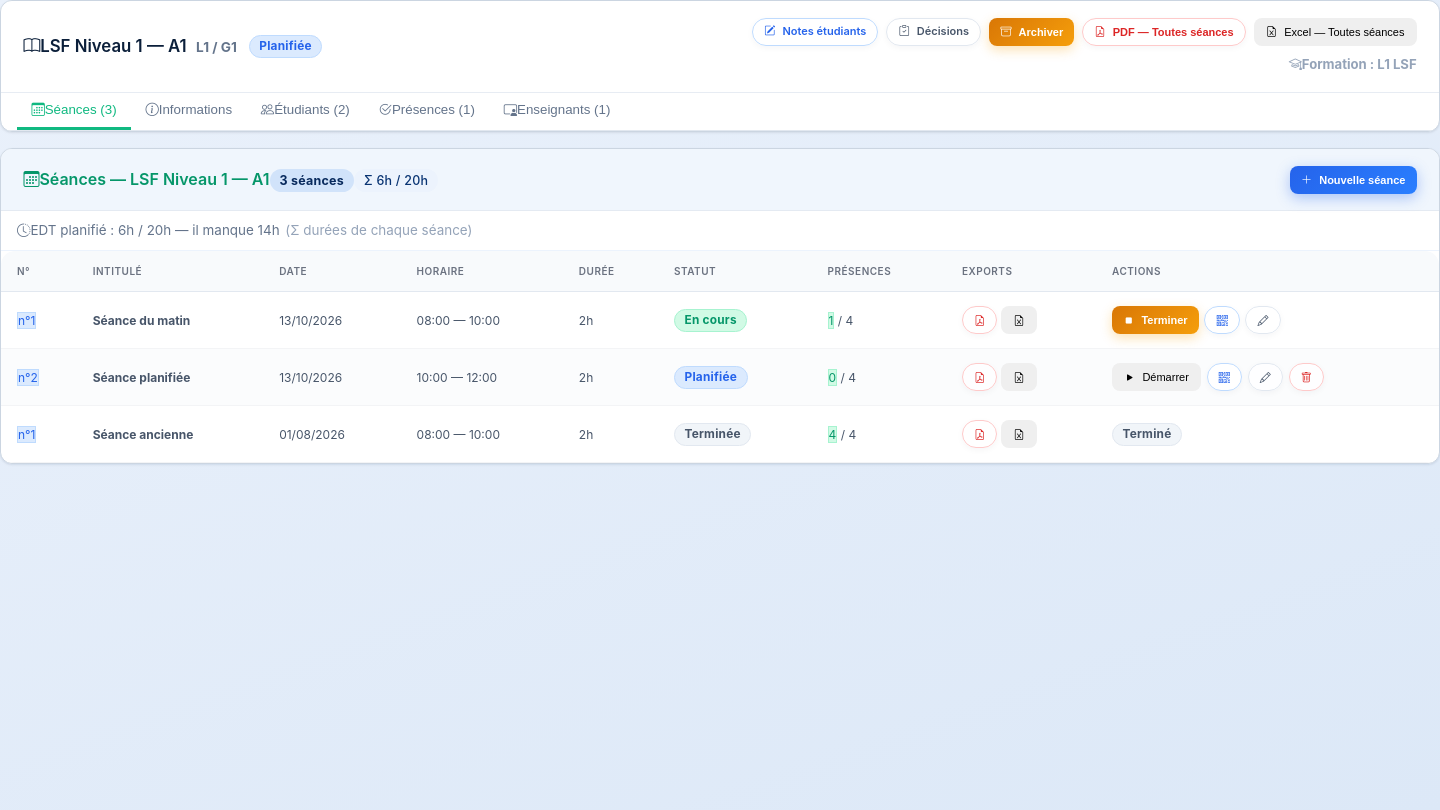
it: ModuleDetail — onglet Séances (démarrage/fin/suppression) › démarre une séance planifiée après confirmation (POST start), notifie et recharge
The width and height of the screenshot is (1440, 810).
Expected: the text "Séance planifiée" is shown, top-left (93, 370), bottom-right (190, 385)
Click the button "Démarrer": (1156, 378) top-left (1112, 364), bottom-right (1201, 392)
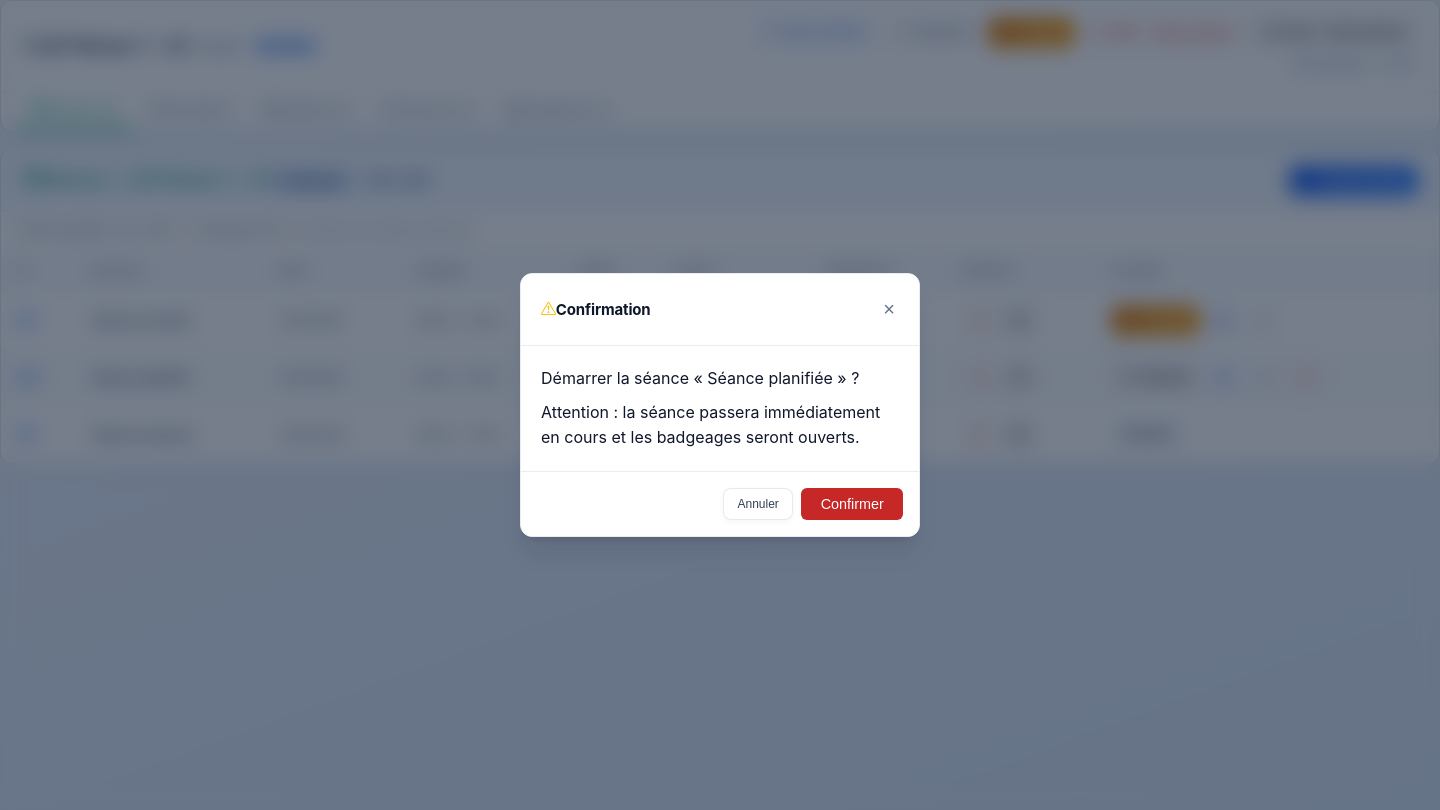
Expected: the text "Démarrer la séance « Séance planifiée » ?" is shown, top-left (541, 366), bottom-right (899, 392)
Click the button "Confirmer": (852, 504) top-left (802, 488), bottom-right (903, 520)
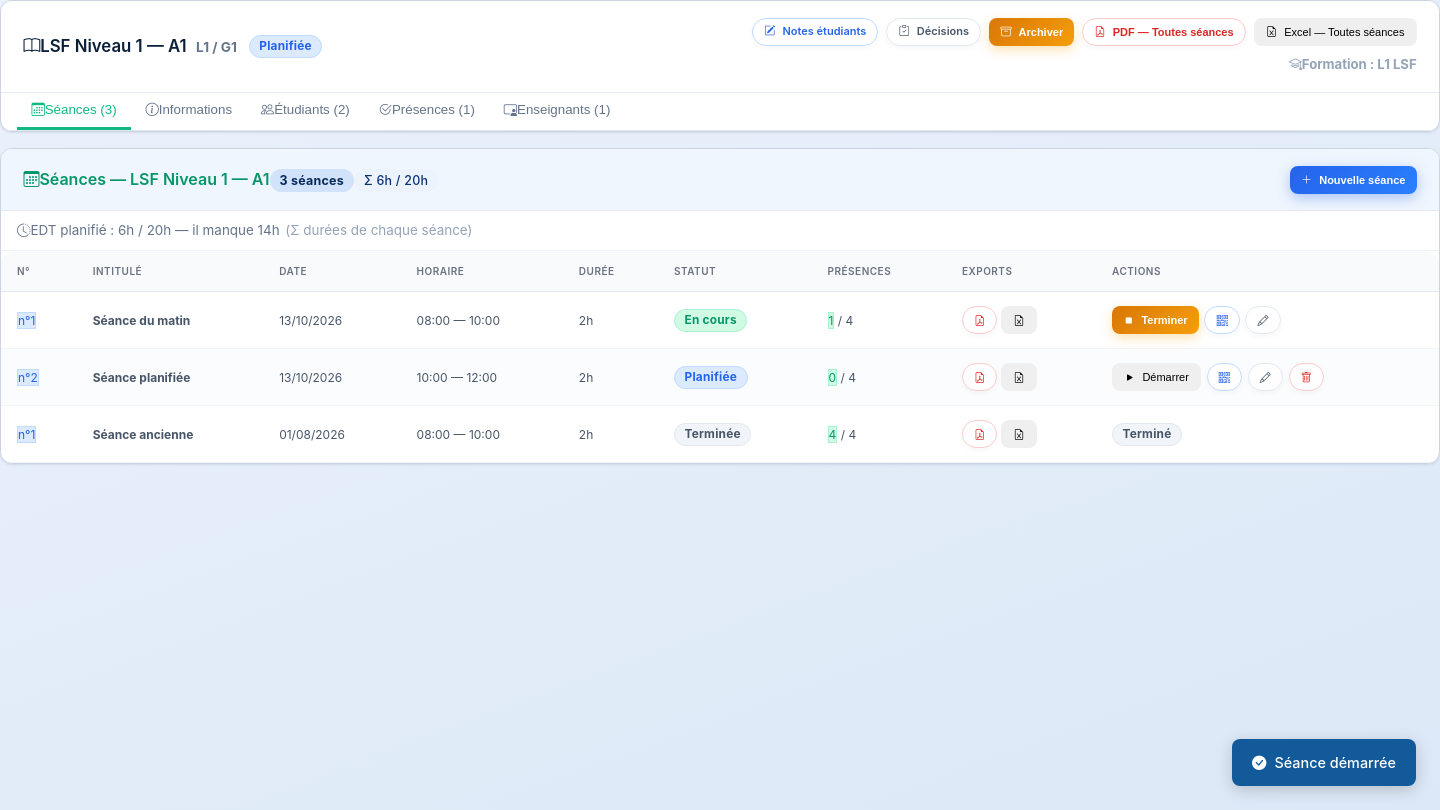
Expected: the text "Séance démarrée" is shown, top-left (1232, 739), bottom-right (1416, 786)
